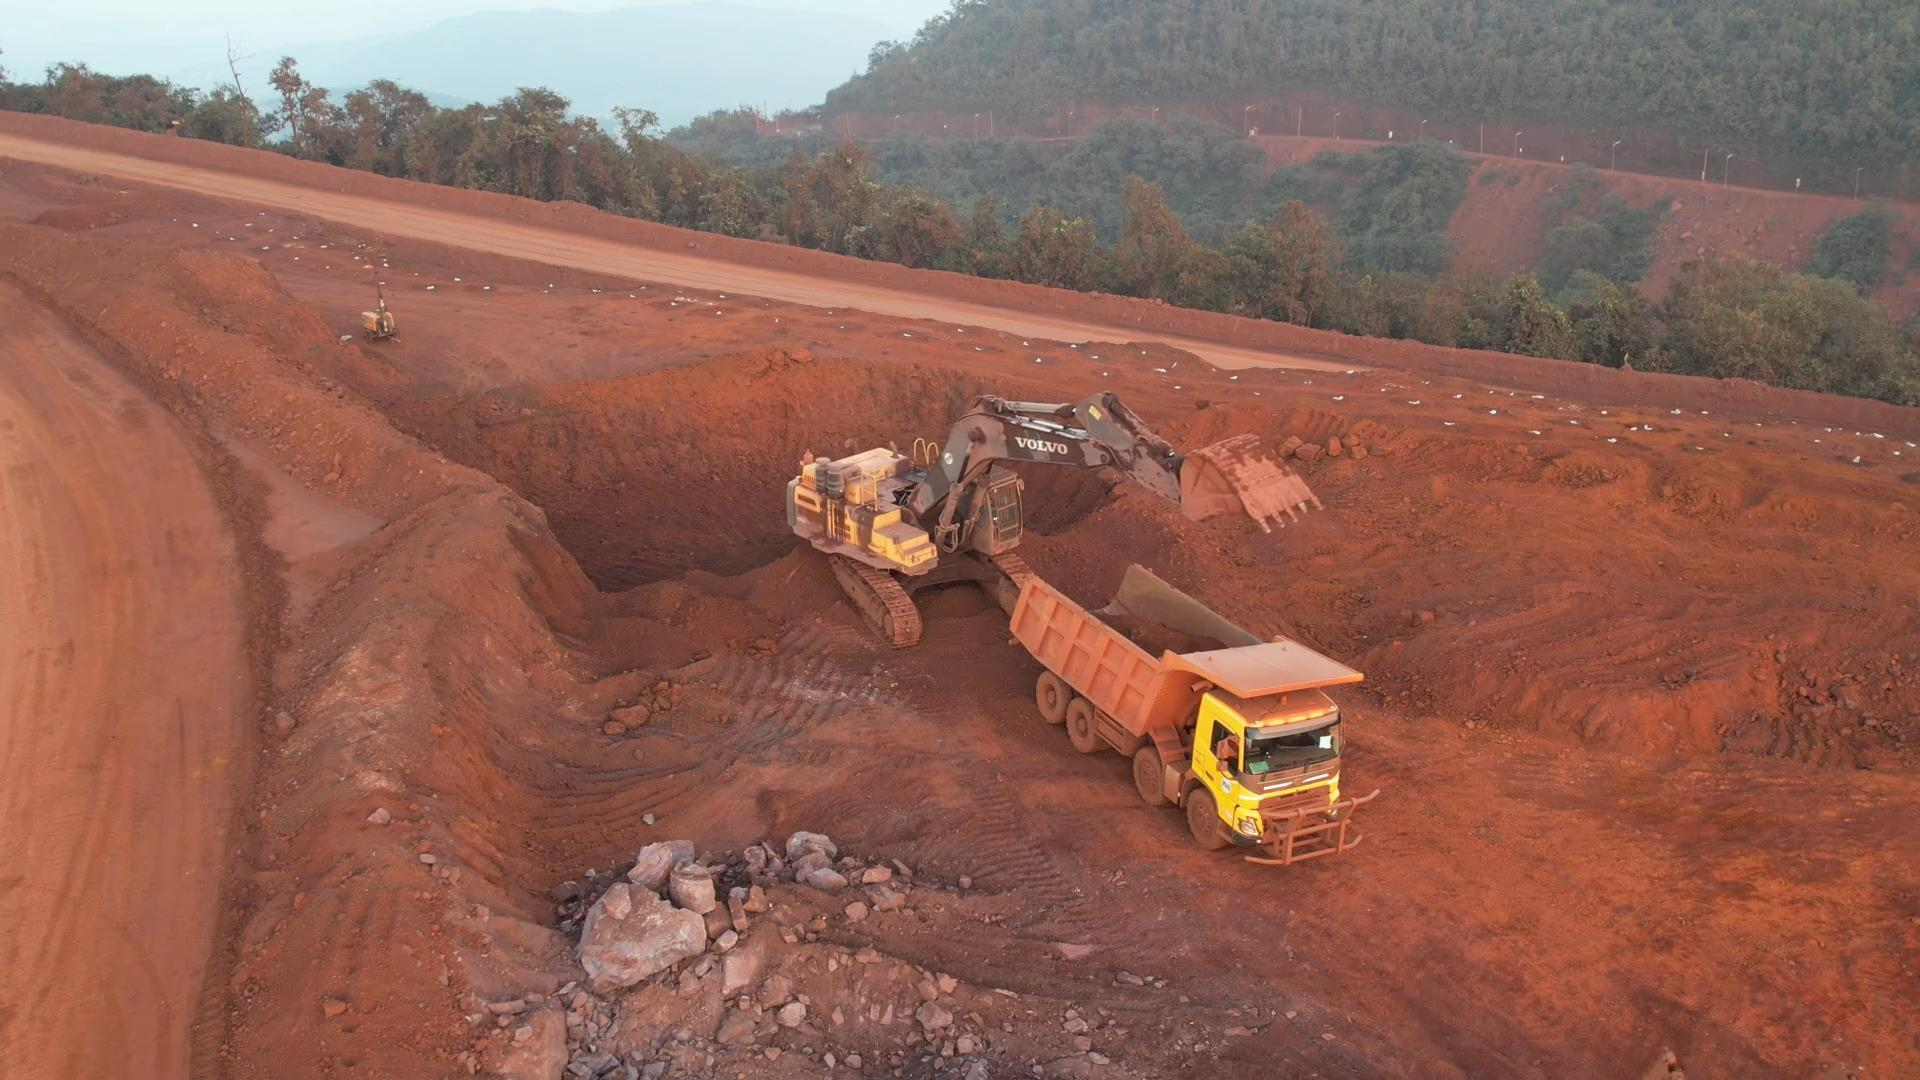excavator: (807, 396, 1262, 574)
